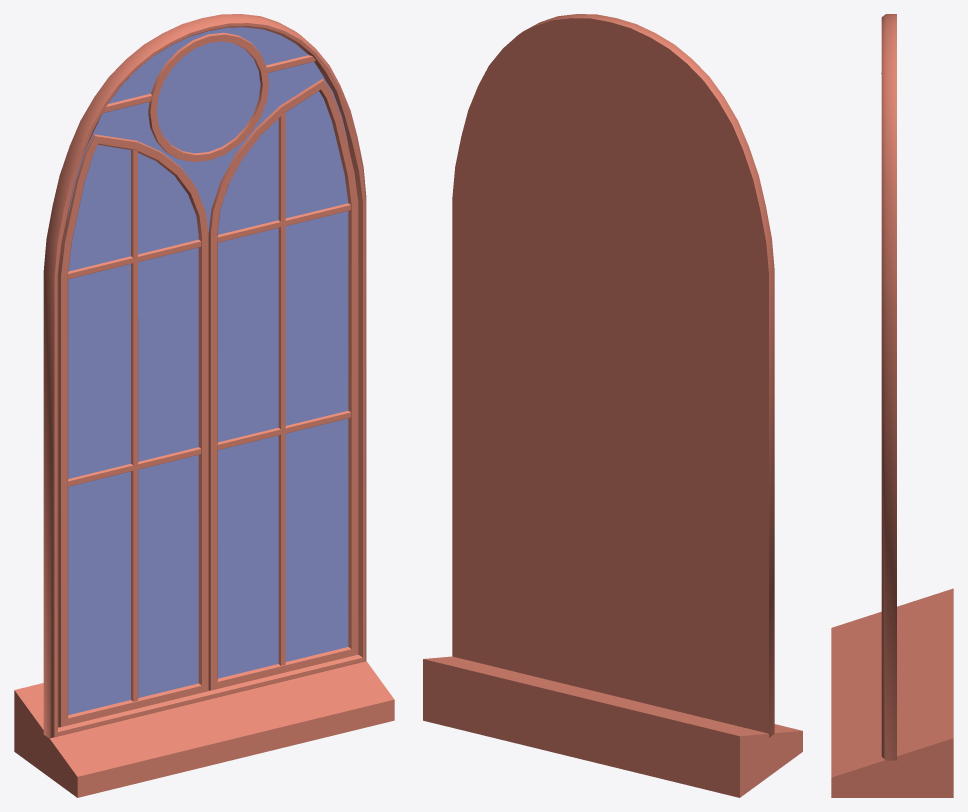
Rendered from SP_House10_Window05.fbx.
3 views of the same model, side by side, from view 1: azimuth 30°, elevation 25°; view 2: azimuth 150°, elevation 25°; view 3: azimuth 270°, elevation 25° (orthographic). The views are drawn at different scales.
Visible parts, largest first — view 1: SP_House10_Window05; view 2: SP_House10_Window05; view 3: SP_House10_Window05.
Boxes of the visible parts, box(x1,y1,x2,y2) form: SP_House10_Window05: box(14, 14, 394, 797); SP_House10_Window05: box(423, 14, 802, 797); SP_House10_Window05: box(831, 14, 953, 797).
Size of the model in its own units: 1.19 by 2.57 by 0.4106.
